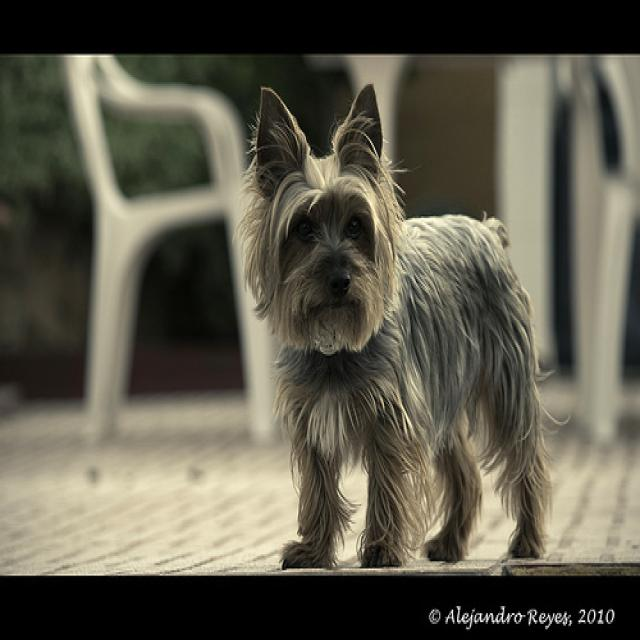dog-yorkshire_terrier: (233, 72, 573, 579)
